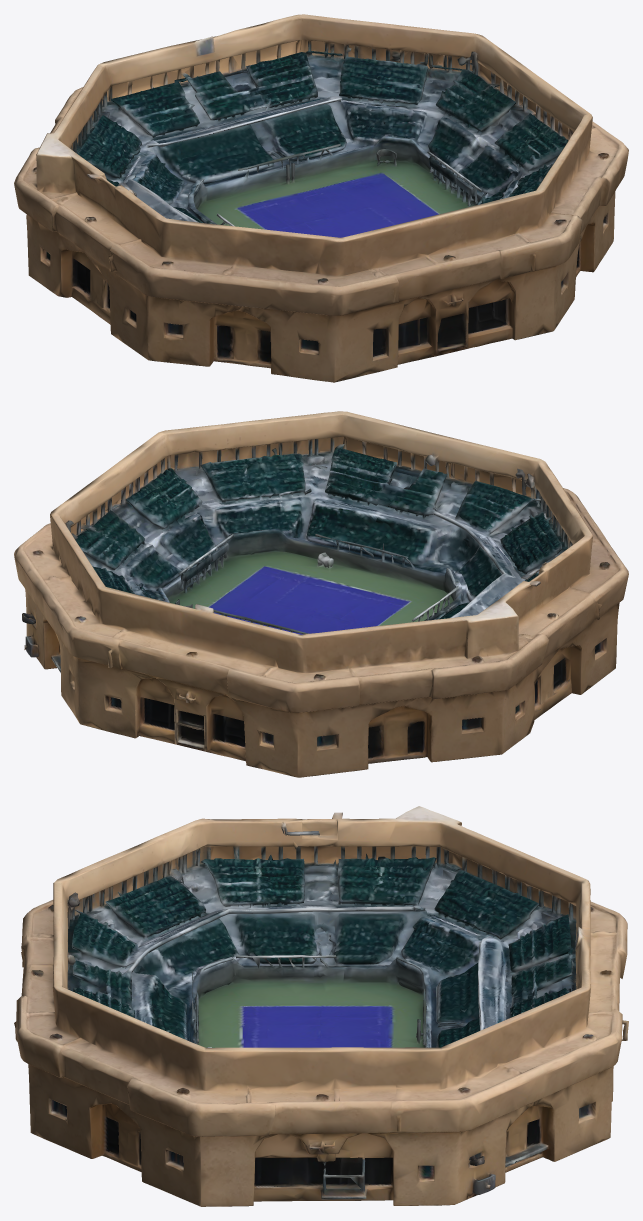
Rendered from stadion_iw.glb.
3 renders of one model, top to bottom at view 1: azimuth 30°, elevation 25°; view 2: azimuth 150°, elevation 25°; view 3: azimuth 270°, elevation 25°, orthographic. The views are drawn at different scales.
Visible parts, largest first — view 1: tripo_node_caba6037-2e12-4ea6-a781-b2cf1d412b10; view 2: tripo_node_caba6037-2e12-4ea6-a781-b2cf1d412b10; view 3: tripo_node_caba6037-2e12-4ea6-a781-b2cf1d412b10.
Part boxes in pixels (x1,y1,x2,y2): tripo_node_caba6037-2e12-4ea6-a781-b2cf1d412b10: (14, 14, 628, 382); tripo_node_caba6037-2e12-4ea6-a781-b2cf1d412b10: (14, 411, 628, 777); tripo_node_caba6037-2e12-4ea6-a781-b2cf1d412b10: (14, 806, 628, 1206).
Bounding box in the file's own units: 1 × 0.2586 × 0.9685.
Materials: 1 (1 with a texture image).
